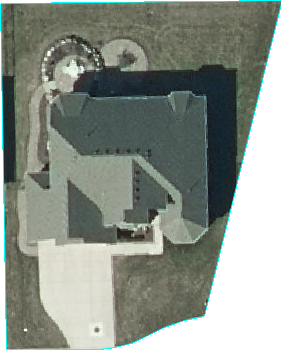house: (22, 89, 212, 247)
